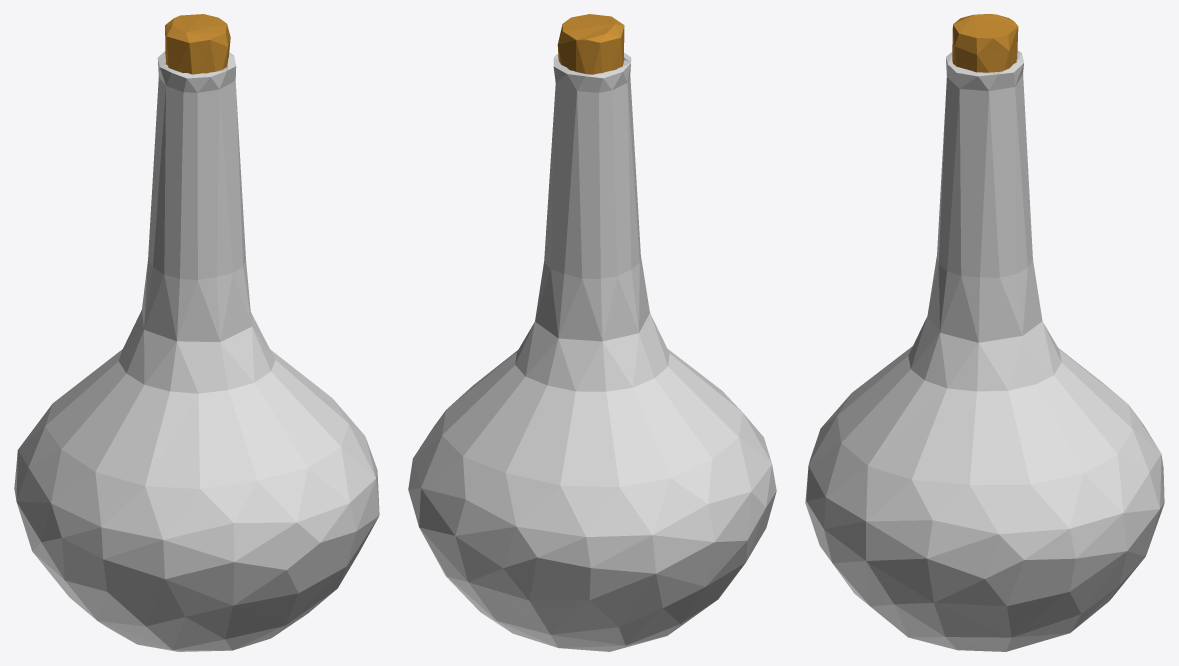
The model's file is stylized_low_poly_potion_red.glb.
3 renders of one model, left to right at view 1: azimuth 30°, elevation 25°; view 2: azimuth 150°, elevation 25°; view 3: azimuth 270°, elevation 25°, orthographic.
Parts seen in each view (by area): view 1: Plane_0; view 2: Plane_0; view 3: Plane_0.
Part boxes in pixels (x1=…): Plane_0: x1=14, y1=14, x2=379, y2=651; Plane_0: x1=408, y1=14, x2=776, y2=651; Plane_0: x1=805, y1=14, x2=1164, y2=651.
Size of the model in its own units: 3.05 by 5.66 by 3.05.
